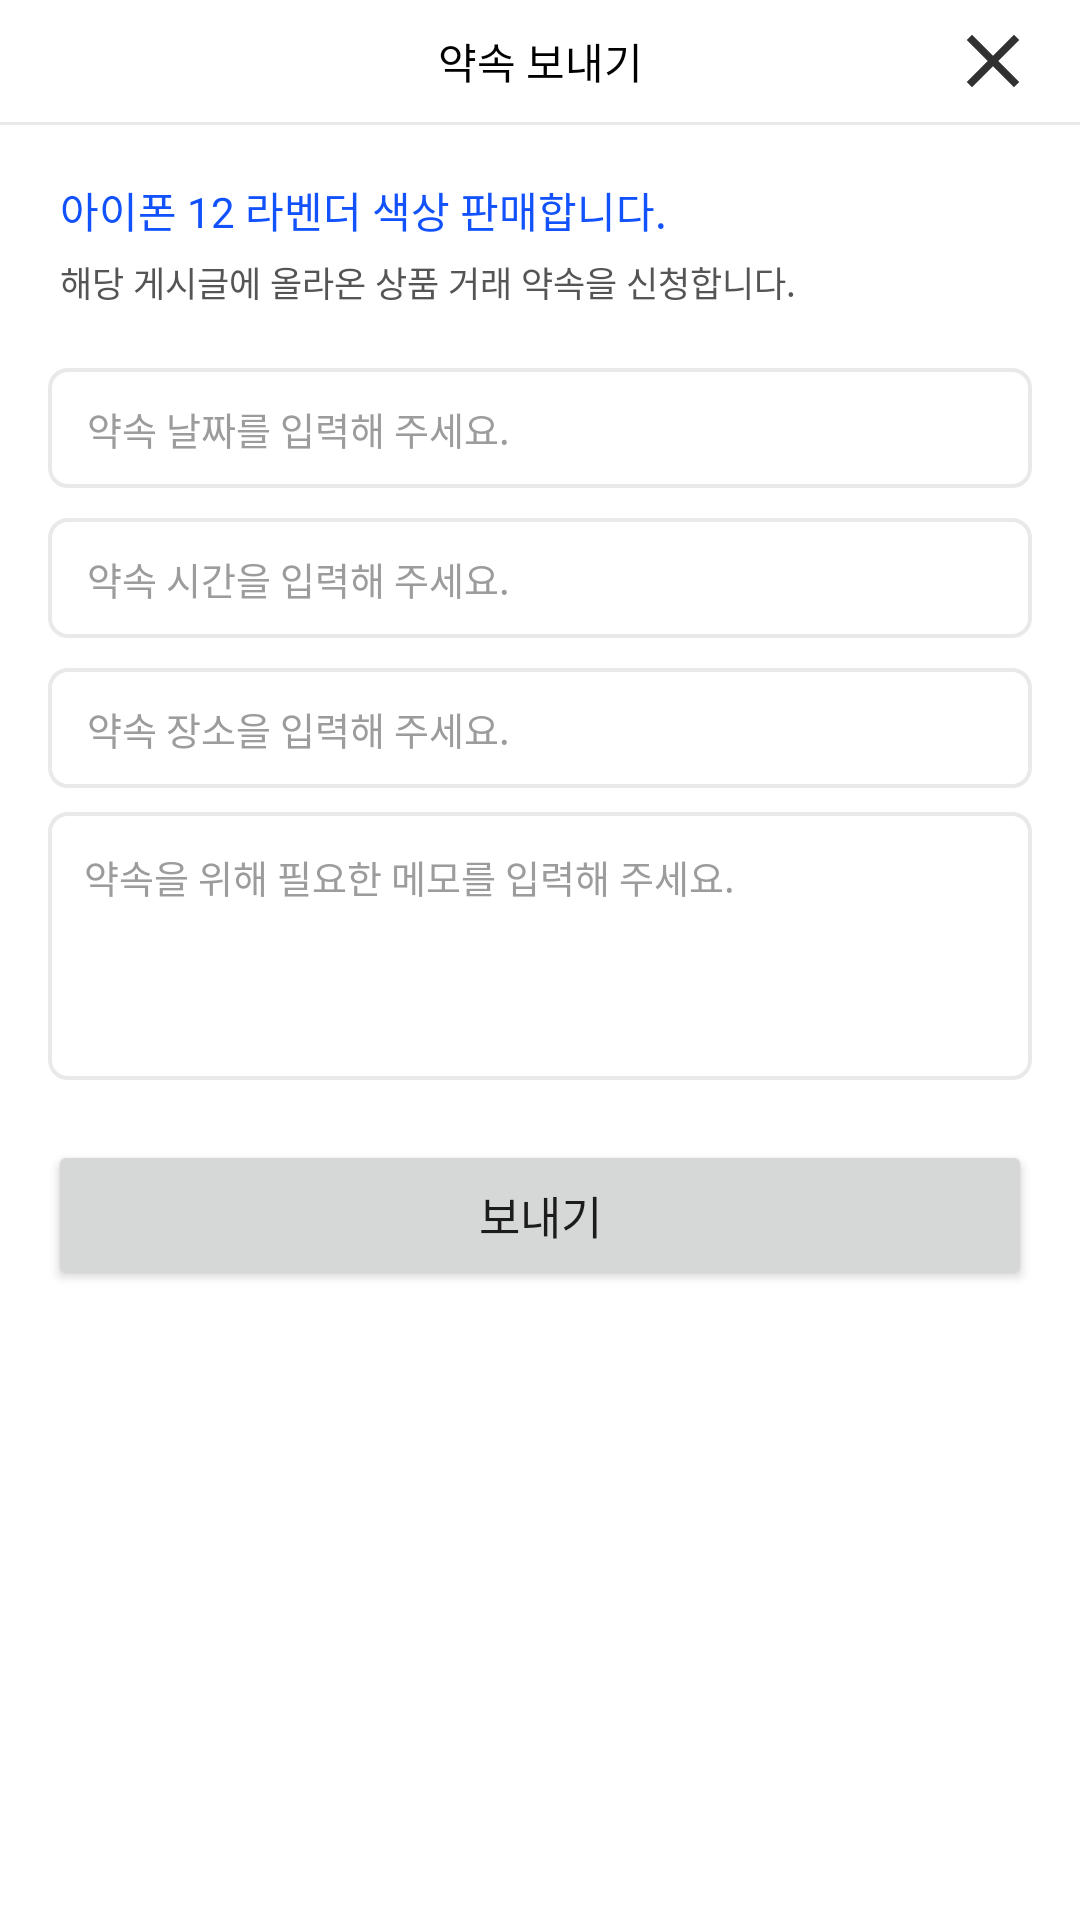

Icon click points for this 1080px×1920px phone screenshot, format (x=x, y=y):
close: (x=993, y=61)
